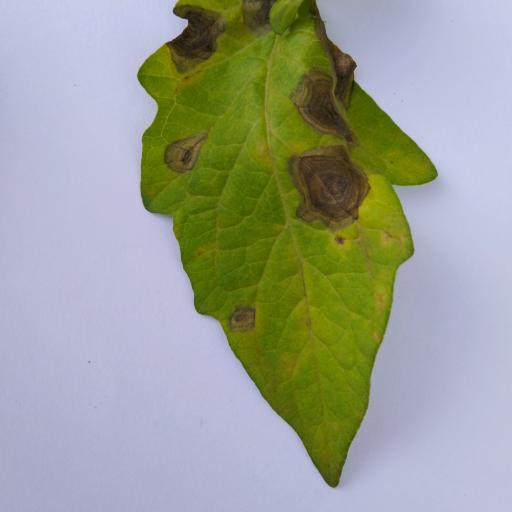disease_tomato: (136, 0, 438, 486)
